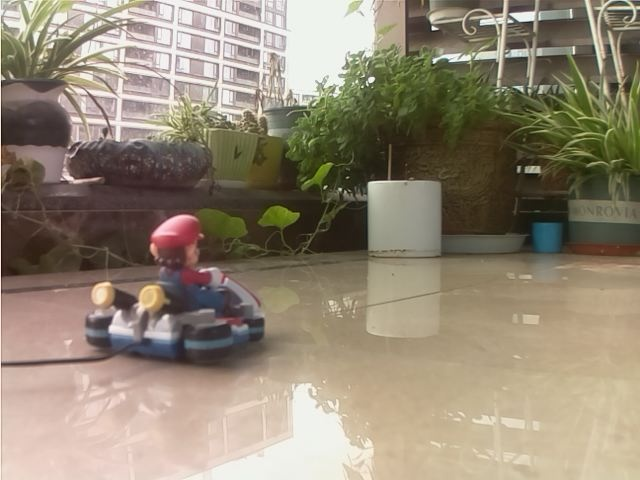mario: (77, 209, 283, 375)
